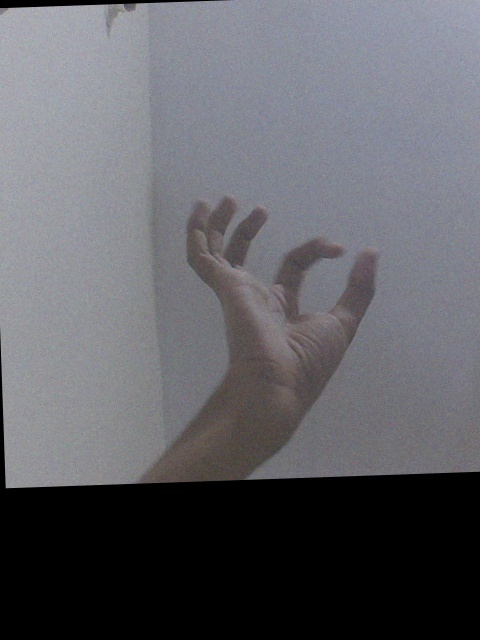hand: (174, 186, 390, 433)
